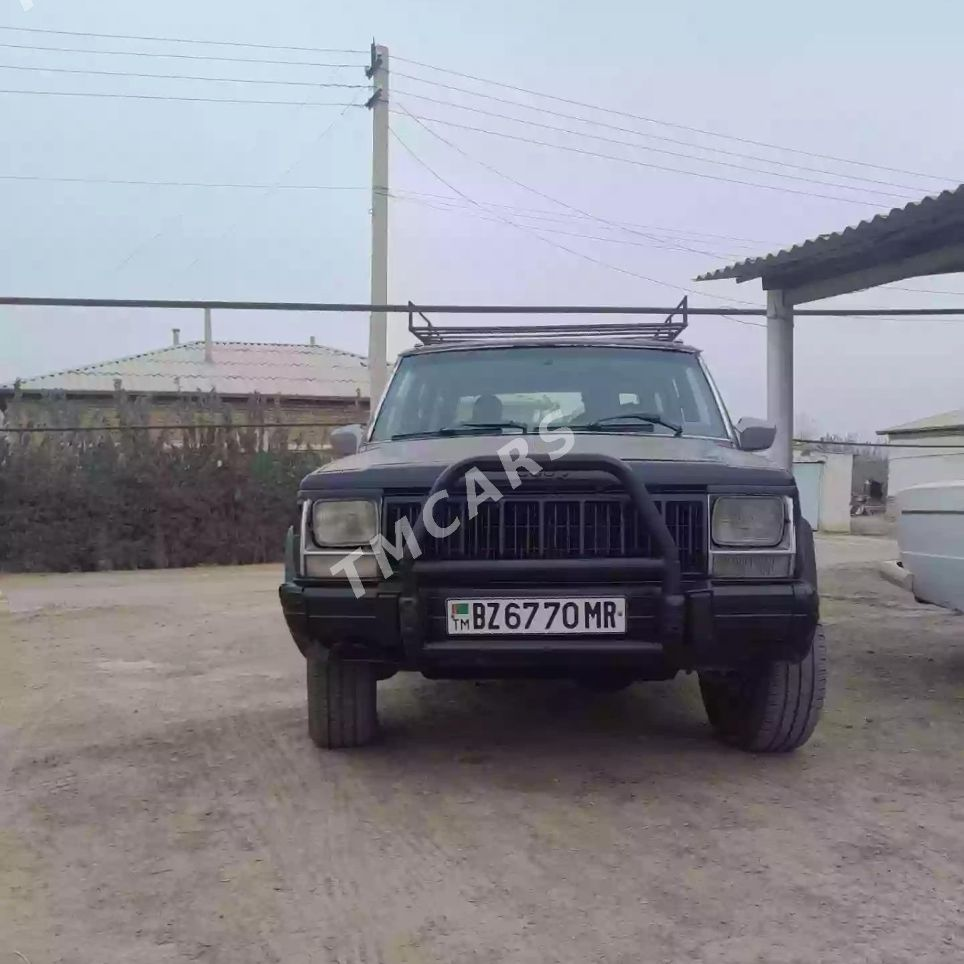license plate: (445, 600, 629, 635)
truck: (266, 295, 842, 765)
